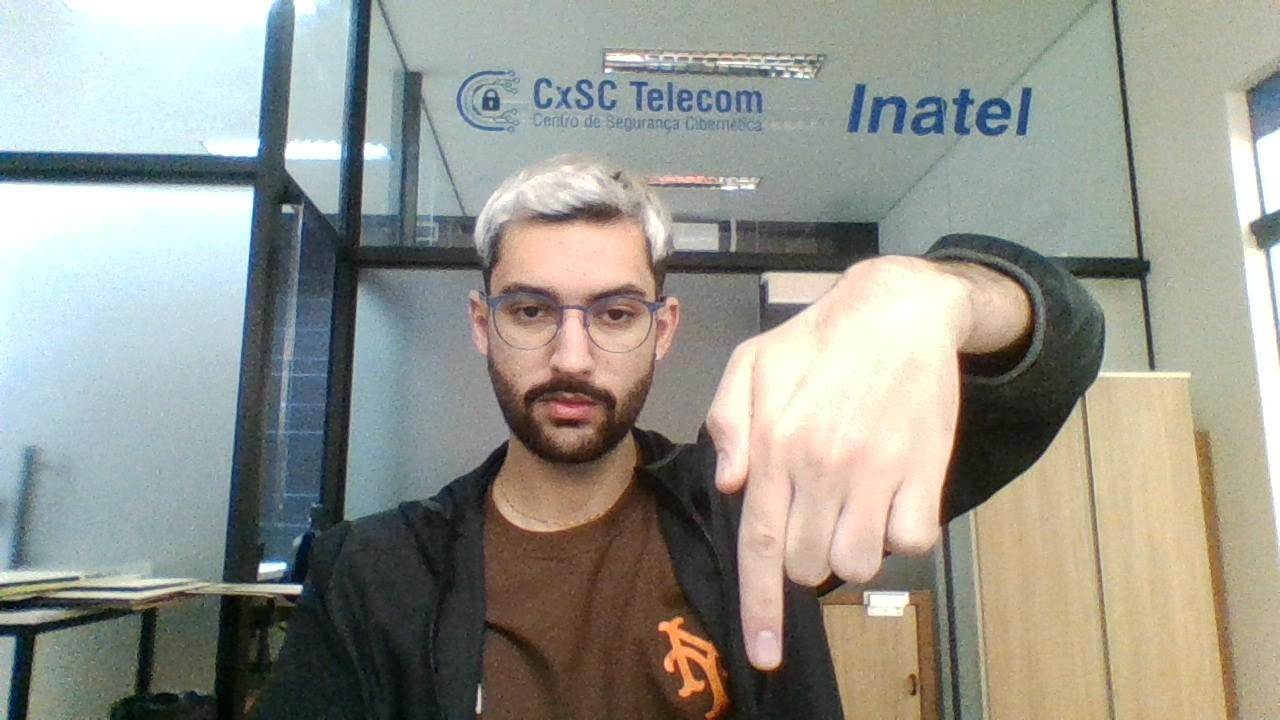Q: (700, 250, 960, 678)
